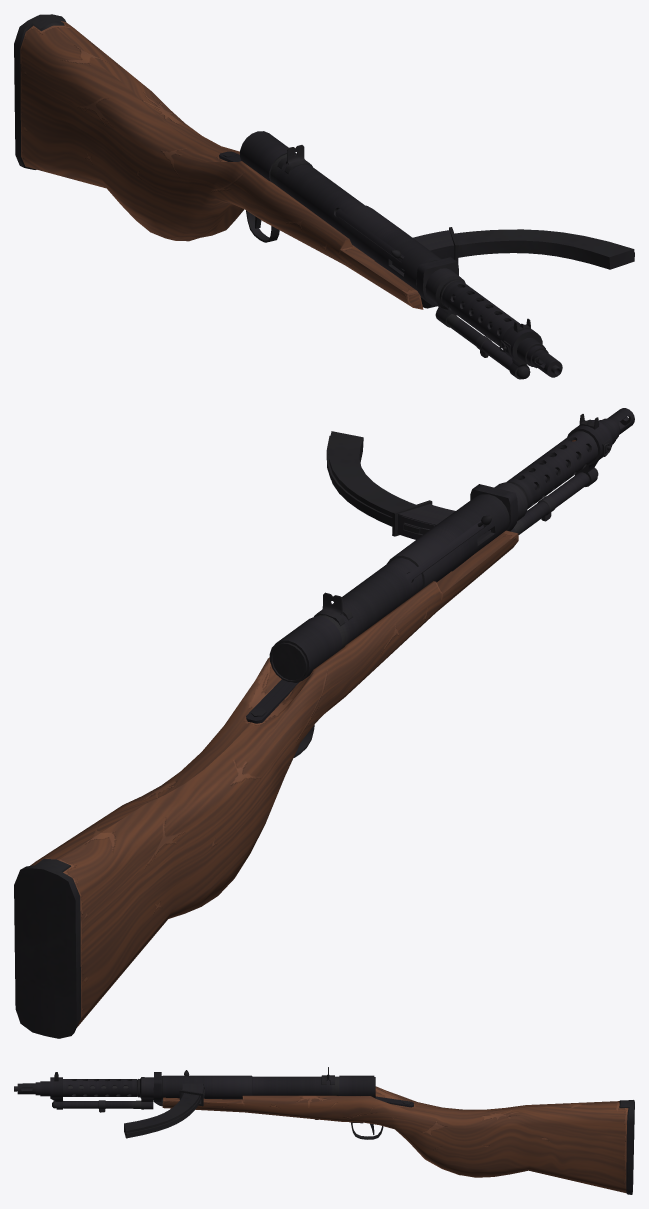
The model's file is type 100.fbx.
The picture shows the model from 3 angles, top to bottom: view 1: azimuth 30°, elevation 25°; view 2: azimuth 150°, elevation 25°; view 3: azimuth 270°, elevation 25°; orthographic projection. The views are drawn at different scales.
Parts seen in each view (by area): view 1: SMG_Type100 Base, SMG_Type100 Components, SMG_Type100 Magazine, SMG_Type100 Slide; view 2: SMG_Type100 Base, SMG_Type100 Components, SMG_Type100 Magazine, SMG_Type100 Slide; view 3: SMG_Type100 Base, SMG_Type100 Components, SMG_Type100 Magazine.
Boxes of the visible parts, x1,y1,x2,y2 form: SMG_Type100 Base: (14,14,423,309); SMG_Type100 Components: (240,131,562,379); SMG_Type100 Magazine: (454,229,634,269); SMG_Type100 Slide: (335,208,404,272); SMG_Type100 Base: (14,530,518,1038); SMG_Type100 Components: (269,408,634,682); SMG_Type100 Magazine: (326,431,415,526); SMG_Type100 Slide: (406,515,492,582); SMG_Type100 Base: (162,1086,634,1194); SMG_Type100 Components: (14,1067,375,1112); SMG_Type100 Magazine: (124,1093,200,1138).
Size of the model in its own units: 201 by 197 by 909.
